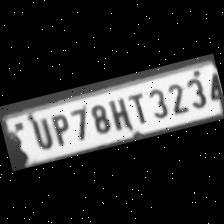2: (162, 78, 190, 116)
3: (142, 83, 170, 121), (181, 72, 208, 111)
4: (201, 68, 223, 106)
7: (64, 103, 92, 142)
8: (84, 99, 112, 138)
H: (104, 93, 133, 132)
P: (45, 109, 74, 147)
T: (123, 89, 150, 127)
U: (23, 114, 54, 153)
